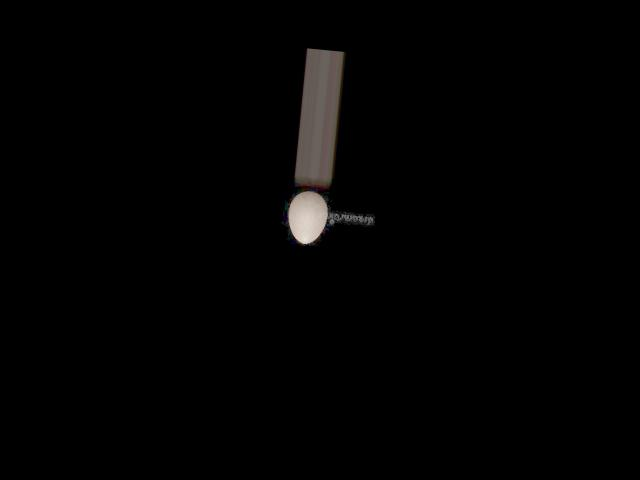egg: (285, 188, 328, 245)
